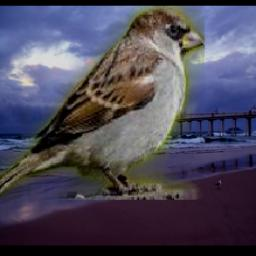Sparrow: (0, 6, 205, 200)
